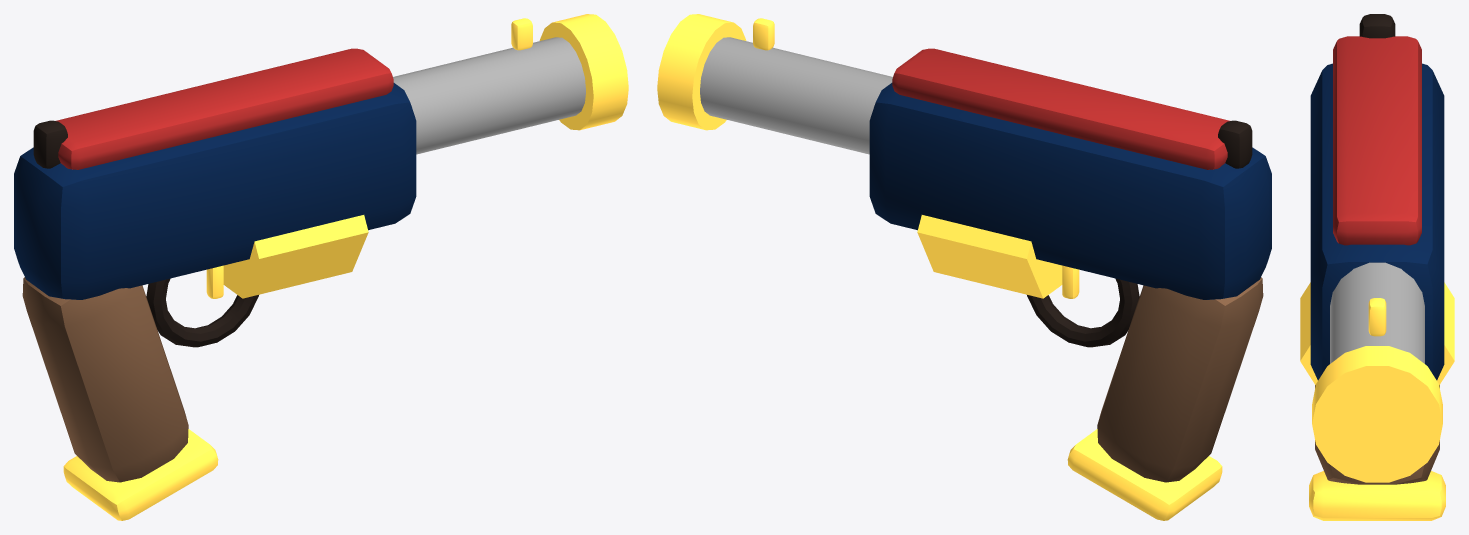
File: PS_Pistol.glb
The picture shows the model from 3 angles, left to right: view 1: azimuth 30°, elevation 25°; view 2: azimuth 150°, elevation 25°; view 3: azimuth 270°, elevation 25°; orthographic projection. The views are drawn at different scales.
Parts seen in each view (by area): view 1: Body, Paint; view 2: Body, Paint; view 3: Body, Paint.
Boxes of the visible parts, bbox=[...] form: Body: bbox=[22, 14, 628, 520]; Paint: bbox=[14, 83, 416, 299]; Body: bbox=[657, 14, 1263, 520]; Paint: bbox=[869, 83, 1271, 299]; Body: bbox=[1300, 14, 1454, 520]; Paint: bbox=[1310, 63, 1444, 380].
Size of the model in its own units: 0.261 by 0.1704 by 0.052.
Materials: 3 (3 with a texture image).
